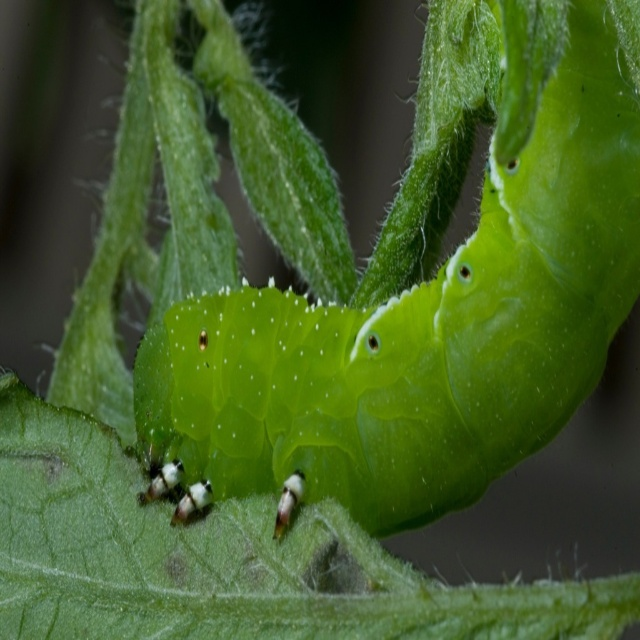Caterpillar: (131, 0, 639, 539)
